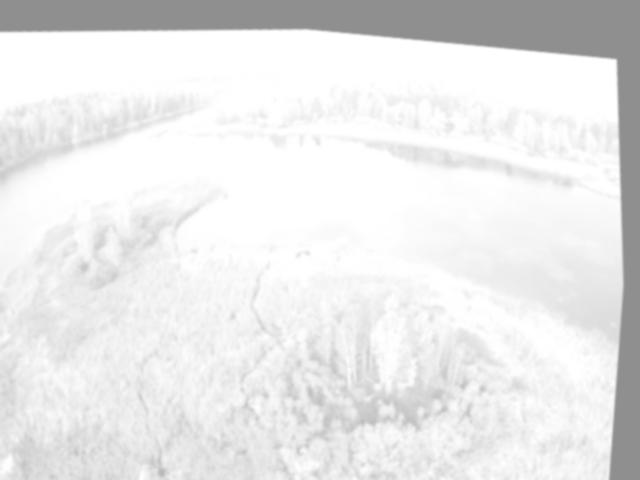hedef: (244, 217, 360, 292)
